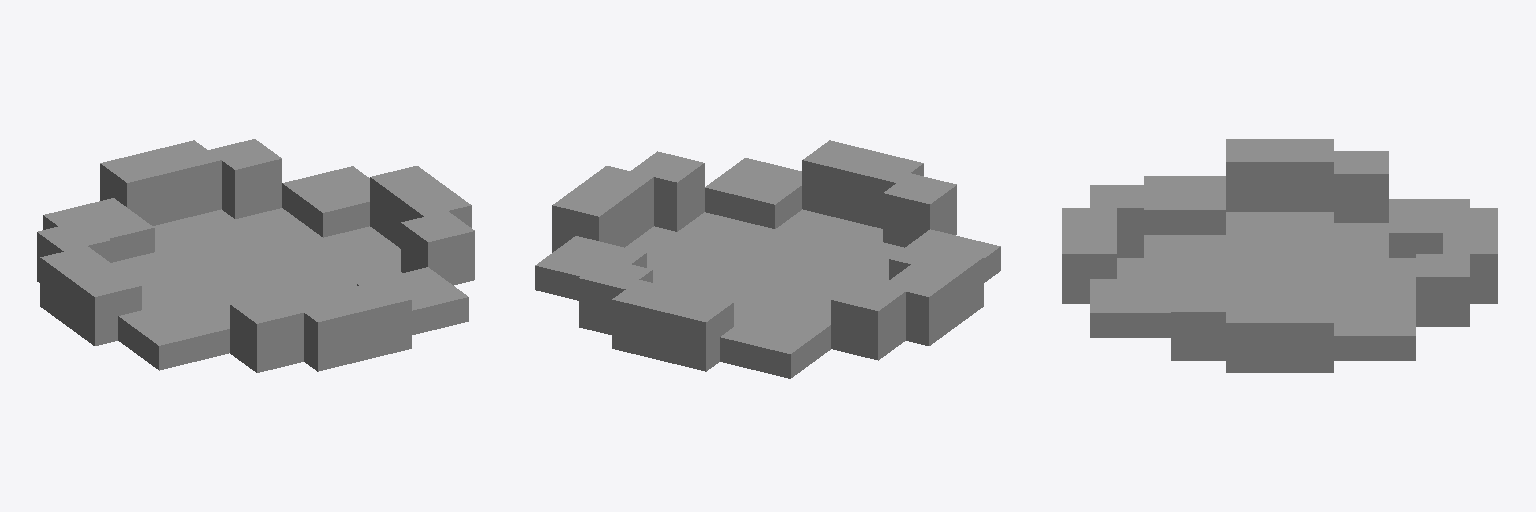
File: campfire_cleaned.obj
3 views of the same model, side by side, from view 1: azimuth 30°, elevation 25°; view 2: azimuth 150°, elevation 25°; view 3: azimuth 270°, elevation 25° (orthographic).
Visible parts, largest first — view 1: Plane_Plane.001, Plane.001_Plane.002; view 2: Plane_Plane.001, Plane.001_Plane.002; view 3: Plane_Plane.001, Plane.001_Plane.002.
Boxes of the visible parts, x1,y1,x2,y2 form: Plane_Plane.001: [37, 139, 474, 372]; Plane.001_Plane.002: [112, 208, 401, 328]; Plane_Plane.001: [535, 140, 1000, 378]; Plane.001_Plane.002: [625, 209, 903, 325]; Plane_Plane.001: [1062, 139, 1497, 372]; Plane.001_Plane.002: [1117, 212, 1415, 301].
Bounding box in the file's own units: 2 × 0.25 × 2.